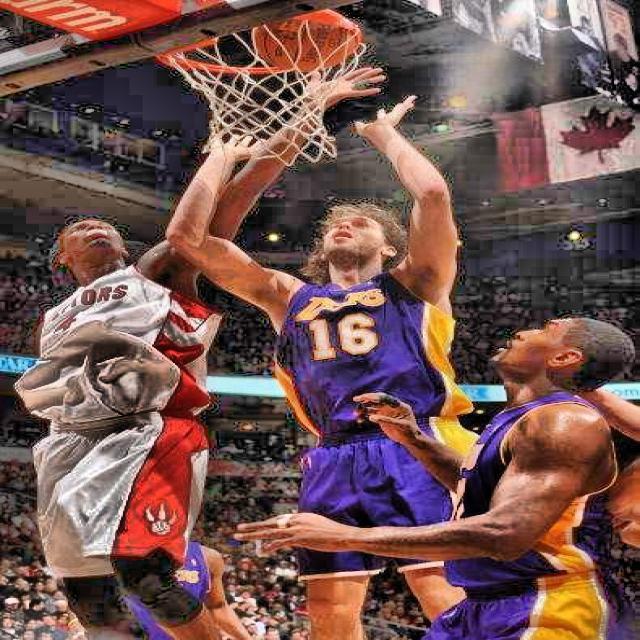rim: (160, 17, 366, 161)
